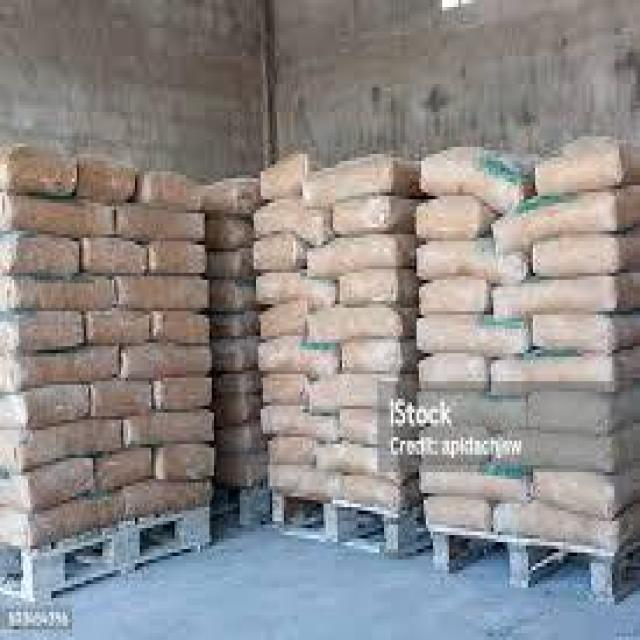gunny_bag: (498, 188, 639, 252), (421, 145, 535, 212), (498, 502, 638, 554), (490, 427, 638, 475), (3, 491, 126, 547), (494, 274, 639, 318), (490, 354, 638, 397), (3, 419, 121, 471), (1, 345, 119, 392), (533, 465, 639, 515), (418, 240, 525, 287), (530, 391, 637, 438), (0, 193, 113, 237), (8, 458, 94, 513), (1, 275, 115, 316), (418, 314, 529, 354), (419, 391, 527, 432), (0, 145, 80, 198), (308, 239, 412, 279), (535, 239, 638, 279), (533, 315, 638, 354), (317, 444, 413, 485), (315, 374, 416, 412), (306, 161, 392, 205), (4, 385, 89, 428), (310, 306, 405, 343), (1, 309, 83, 351), (424, 469, 524, 503), (255, 201, 332, 244), (0, 230, 78, 272), (123, 343, 209, 381), (257, 338, 340, 377), (118, 205, 203, 243), (332, 197, 417, 235), (126, 413, 213, 448), (418, 427, 487, 471), (267, 463, 344, 502), (344, 473, 415, 515), (119, 277, 209, 310), (129, 482, 211, 518), (418, 194, 479, 242), (342, 271, 414, 310), (262, 410, 339, 445), (258, 274, 334, 309), (342, 414, 412, 451), (418, 353, 485, 391), (153, 442, 216, 482), (424, 496, 490, 534), (135, 170, 199, 208), (420, 277, 485, 312), (341, 338, 406, 373), (261, 147, 305, 198), (99, 450, 152, 492), (92, 380, 153, 416), (87, 237, 146, 274), (80, 160, 135, 199), (89, 309, 149, 343), (204, 181, 254, 220), (260, 299, 305, 341), (158, 376, 212, 410), (216, 455, 267, 490), (151, 245, 206, 277), (156, 312, 209, 344), (212, 341, 260, 375), (261, 374, 310, 406), (218, 396, 260, 428), (214, 310, 257, 341), (212, 280, 252, 312), (271, 439, 317, 466), (209, 220, 250, 250), (219, 427, 261, 456), (255, 239, 294, 269), (210, 251, 252, 278), (216, 373, 255, 400)
